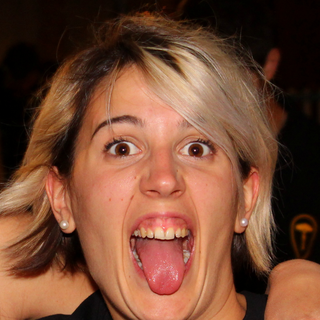eye: (100, 136, 151, 163), (175, 136, 221, 162)
